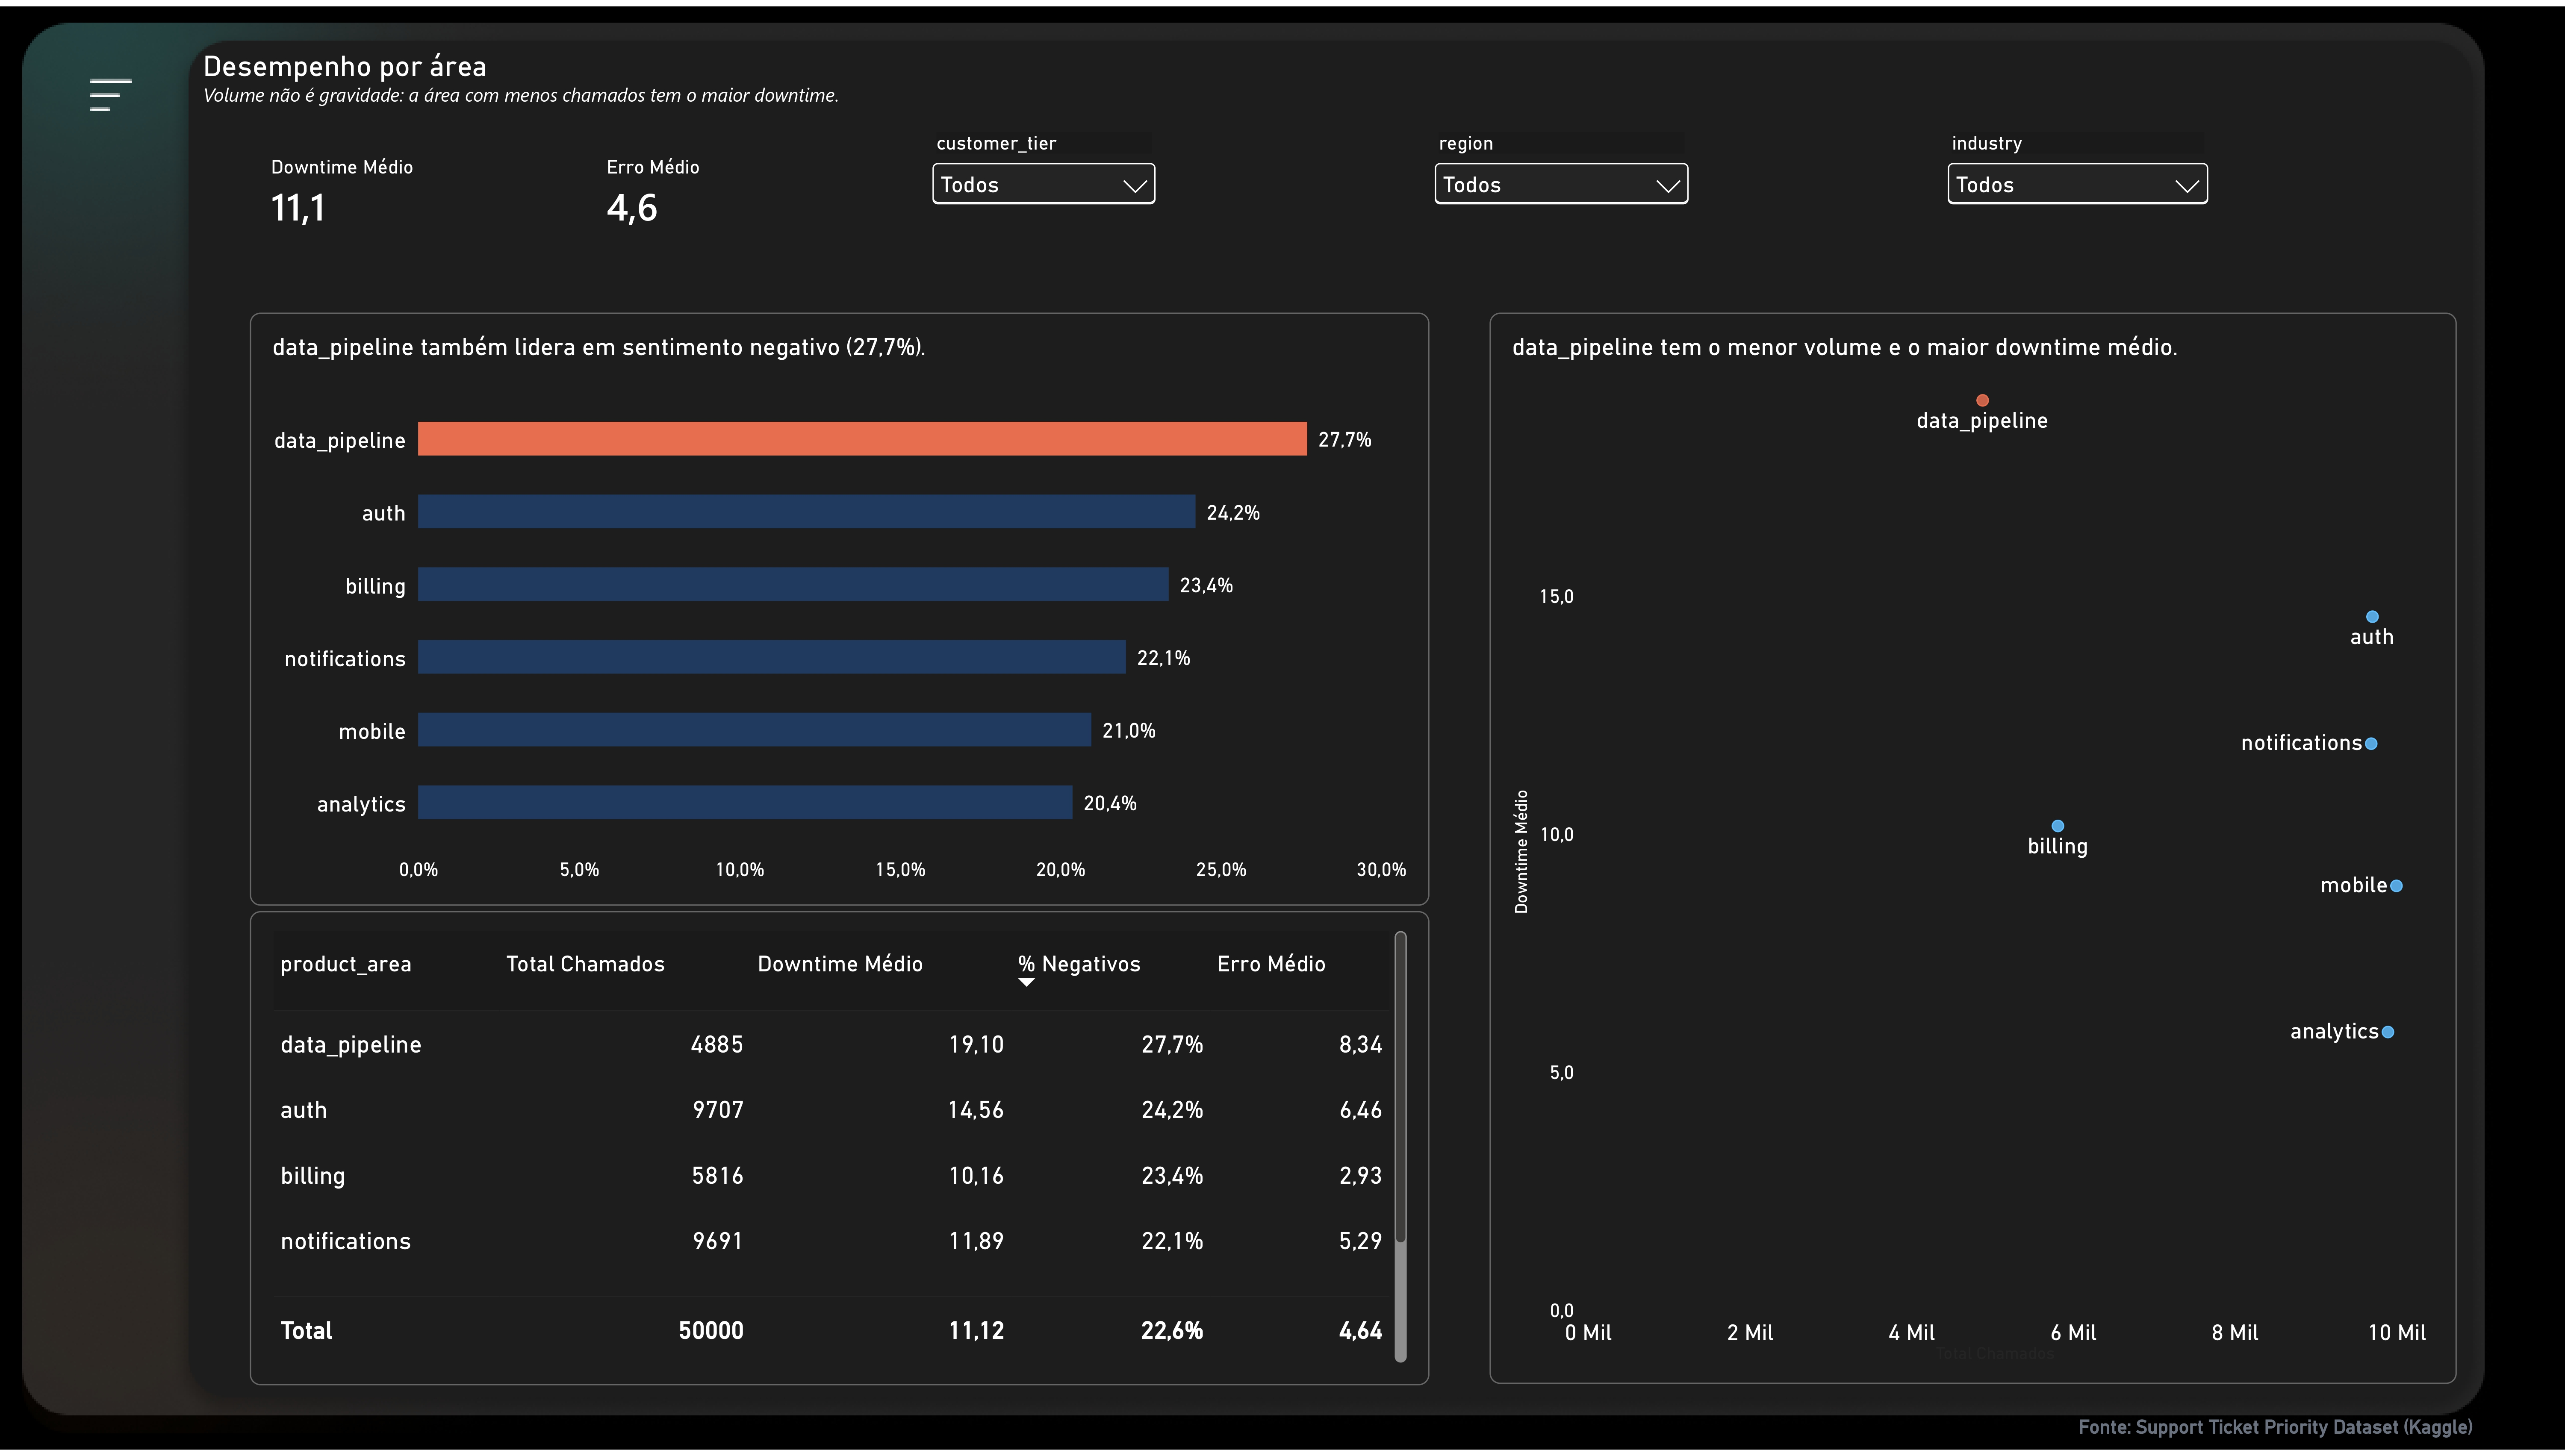

This screenshot's page, from the dashboard's own definition file:
{"tool":"powerbi","page":{"name":"Área","canvas":[1920,1080],"ordinal":1},"visuals":[{"type":"cardVisual","fields":{"Data":["Medidas.Erro Médio"]},"box":[438.4,69.8,215,140],"z":0},{"type":"cardVisual","fields":{"Data":["Medidas.Downtime Médio"]},"box":[186.6,69.8,215,140],"z":1000},{"type":"scatterChart","title":"data_pipeline tem o menor volume e o maior downtime médio.","fields":{"Category":["Support_tickets.product_area"],"X":["Medidas.Total Chamados"],"Y":["Medidas.Downtime Médio"]},"box":[1114.9,229,723.5,802.4],"z":2000},{"type":"barChart","title":"data_pipeline também lidera em sentimento negativo (27,7%).","fields":{"Category":["Support_tickets.product_area"],"Y":["Medidas.% Negativos"]},"box":[186.6,229,882.8,444.4],"z":3000},{"type":"tableEx","fields":{"Values":["Support_tickets.product_area","Medidas.Total Chamados","Medidas.Downtime Médio","Medidas.% Negativos","Medidas.Erro Médio"]},"box":[186.6,676.5,882.8,354.9],"z":4000},{"type":"textbox","box":[151.7,31.9,787.2,69.8],"z":5000},{"type":"slicer","fields":{"Values":["Support_tickets.customer_tier"]},"box":[693.2,94,177.5,89.5],"z":6000},{"type":"slicer","fields":{"Values":["Support_tickets.industry"]},"box":[1453.1,94,204.8,89.5],"z":7000},{"type":"slicer","fields":{"Values":["Support_tickets.region"]},"box":[1069.4,94,200.2,89.5],"z":8000},{"type":"textbox","box":[1556.3,1052.7,364,27.3],"z":9000},{"type":"actionButton","box":[45.5,31.9,69.8,66.7],"z":9001}]}

Visuals, with their boxes in screenshot pixels (x1, y1, x2, y2), scaled from the page's 1920x1080 canvas onto the 2565x1456 screenshot:
cardVisual - Medidas.Erro Médio: [x1=586, y1=94, x2=873, y2=283]
cardVisual - Medidas.Downtime Médio: [x1=249, y1=94, x2=537, y2=283]
"data_pipeline tem o menor volume e o maior downtime médio." scatterChart: [x1=1489, y1=309, x2=2456, y2=1391]
"data_pipeline também lidera em sentimento negativo (27,7%)." barChart: [x1=249, y1=309, x2=1429, y2=908]
tableEx - Support_tickets.product_area x Medidas.Total Chamados: [x1=249, y1=912, x2=1429, y2=1391]
textbox: [x1=203, y1=43, x2=1254, y2=137]
slicer - Support_tickets.customer_tier: [x1=926, y1=127, x2=1163, y2=247]
slicer - Support_tickets.industry: [x1=1941, y1=127, x2=2215, y2=247]
slicer - Support_tickets.region: [x1=1429, y1=127, x2=1696, y2=247]
textbox: [x1=2079, y1=1419, x2=2565, y2=1456]
actionButton: [x1=61, y1=43, x2=154, y2=133]
